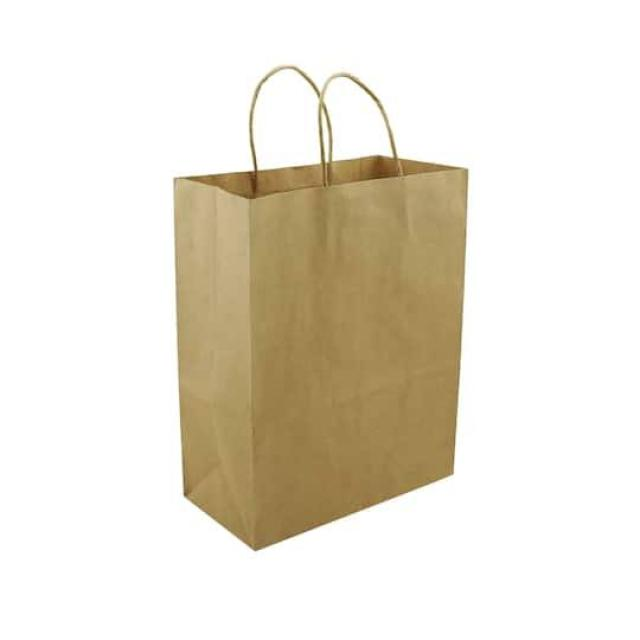paper: (156, 55, 478, 555)
